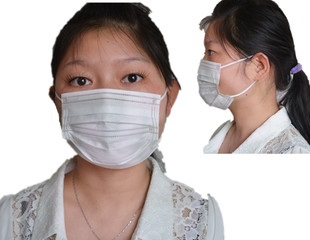face_mask: (54, 30, 164, 169), (195, 22, 244, 109)
